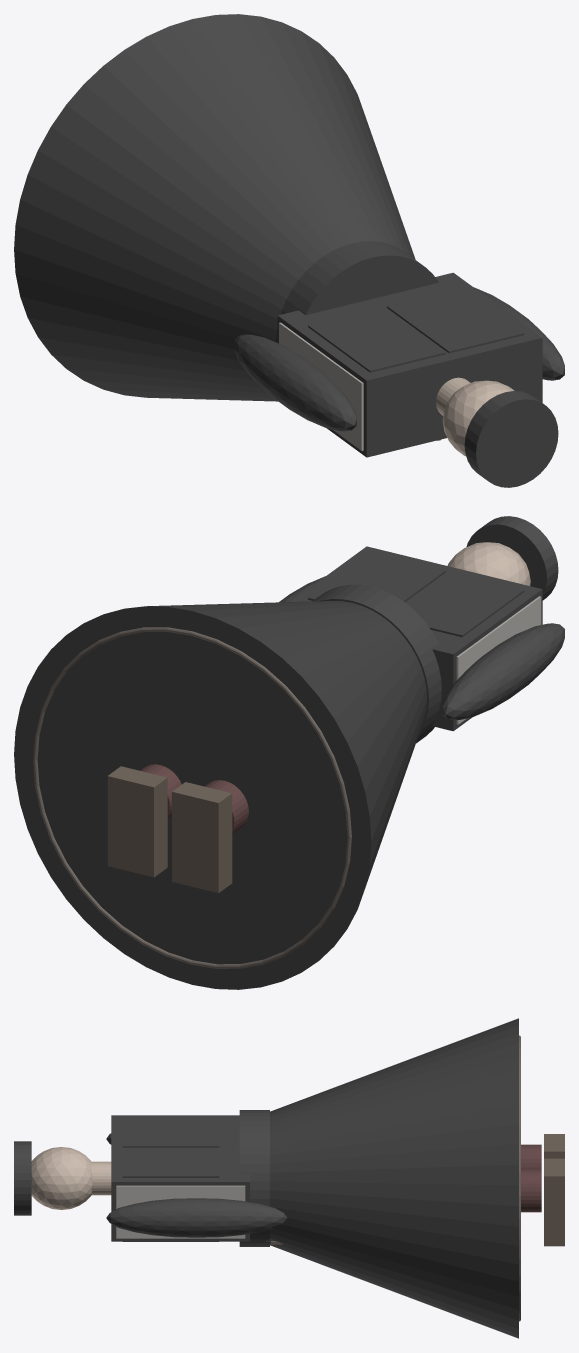
The model's file is MASTER_055_STAGE3_DETAIL.glb.
3 renders of one model, top to bottom at view 1: azimuth 30°, elevation 25°; view 2: azimuth 150°, elevation 25°; view 3: azimuth 270°, elevation 25°, orthographic. The views are drawn at different scales.
Visible parts, largest first — view 1: slot_lower_main__fund_i_gjatë, slot_upper_inner__këmishë, slot_headwear__mbulesë_koke, slot_waist__brez, slot_upper_inner_sleeve_L, slot_upper_outer__jelek_R, slot_upper_outer__jelek_L, mannequin_torso, mannequin_head, slot_upper_inner_sleeve_R; view 2: slot_lower_main__fund_i_gjatë, slot_footwear__opinga_R, slot_footwear__opinga_L, slot_upper_inner_sleeve_L, detail_skirt_hem, slot_upper_inner__këmishë, slot_upper_outer__jelek_L, slot_waist__brez, slot_headwear__mbulesë_koke, slot_upper_outer__jelek_R, mannequin_head, mannequin_torso (+2 smaller); view 3: slot_lower_main__fund_i_gjatë, slot_upper_inner_sleeve_R, slot_upper_inner__këmishë, mannequin_head, slot_upper_outer__jelek_R, slot_upper_outer__jelek_L, slot_waist__brez, mannequin_torso, slot_footwear__opinga_R, slot_headwear__mbulesë_koke, slot_legwear__çorape_R, mannequin_neck (+3 smaller).
Boxes of the visible parts, x1,y1,x2,y2 form: slot_lower_main__fund_i_gjatë: (14, 14, 415, 401); slot_upper_inner__këmishë: (277, 272, 542, 457); slot_headwear__mbulesë_koke: (464, 391, 558, 487); slot_waist__brez: (276, 241, 438, 342); slot_upper_inner_sleeve_L: (234, 334, 356, 431); slot_upper_outer__jelek_R: (387, 288, 524, 353); slot_upper_outer__jelek_L: (308, 307, 445, 372); mannequin_torso: (279, 322, 363, 450); mannequin_head: (442, 380, 514, 456); slot_upper_inner_sleeve_R: (473, 287, 564, 380); slot_lower_main__fund_i_gjatë: (14, 601, 426, 989); slot_footwear__opinga_R: (107, 766, 167, 877); slot_footwear__opinga_L: (172, 782, 232, 893); slot_upper_inner_sleeve_L: (442, 623, 564, 720); detail_skirt_hem: (33, 627, 351, 968); slot_upper_inner__këmishë: (291, 546, 542, 731); slot_upper_outer__jelek_L: (406, 571, 524, 637); slot_waist__brez: (312, 584, 441, 743); slot_headwear__mbulesë_koke: (466, 516, 558, 600); slot_upper_outer__jelek_R: (308, 552, 445, 601); mannequin_head: (447, 542, 530, 585); mannequin_torso: (456, 596, 541, 724); slot_lower_main__fund_i_gjatë: (270, 1018, 518, 1338); slot_upper_inner_sleeve_R: (106, 1198, 287, 1237); slot_upper_inner__këmishë: (111, 1115, 249, 1241); mannequin_head: (31, 1147, 92, 1209); slot_upper_outer__jelek_R: (122, 1147, 219, 1241); slot_upper_outer__jelek_L: (122, 1117, 219, 1147); slot_waist__brez: (239, 1110, 269, 1246); mannequin_torso: (116, 1185, 245, 1238); slot_footwear__opinga_R: (544, 1158, 564, 1246); slot_headwear__mbulesë_koke: (14, 1141, 31, 1215); slot_legwear__çorape_R: (521, 1169, 541, 1212); mannequin_neck: (91, 1161, 111, 1195).
Bounding box in the file's own units: 0.9959 × 0.9959 × 1.71.
